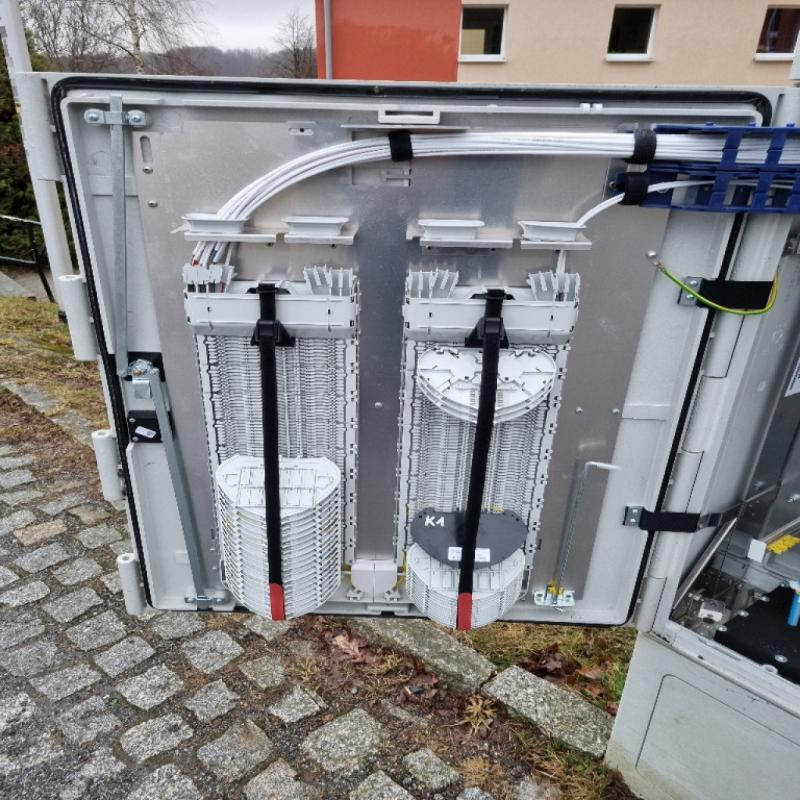NT-Gehause: (18, 37, 796, 800)
Spleiskassetten: (390, 211, 594, 638), (178, 210, 373, 626)
